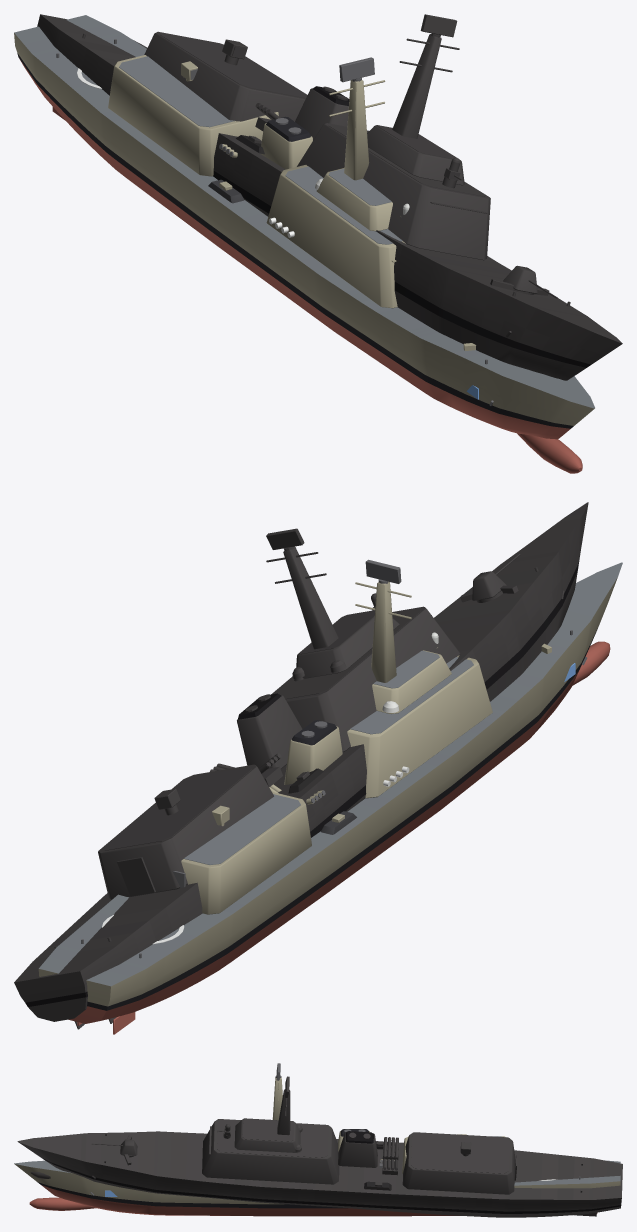
Rendered from asFrigate__incheon_class.glb.
3 views of the same model, one above another, from view 1: azimuth 30°, elevation 25°; view 2: azimuth 150°, elevation 25°; view 3: azimuth 270°, elevation 25° (orthographic). The views are drawn at different scales.
Parts seen in each view (by area): view 1: Hull_Mesh, Wreck, Radar_Mesh; view 2: Hull_Mesh, Wreck; view 3: Wreck, Hull_Mesh.
Boxes of the visible parts, x1,y1,x2,y2 form: Hull_Mesh: [14, 15, 594, 473]; Wreck: [37, 14, 622, 380]; Radar_Mesh: [339, 57, 374, 82]; Hull_Mesh: [38, 562, 622, 1034]; Wreck: [14, 502, 588, 1029]; Wreck: [17, 1076, 622, 1217]; Hull_Mesh: [14, 1077, 620, 1216].
Size of what is drawn, in the model's own units: 20.79 by 33.87 by 120.
